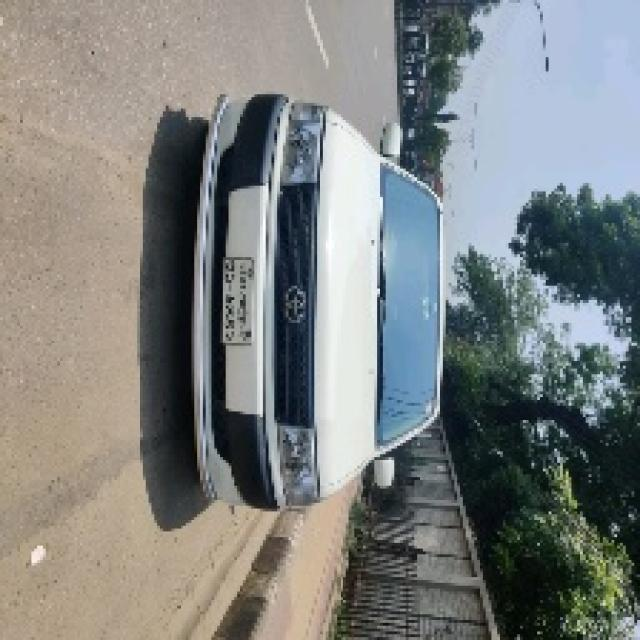car: (176, 89, 463, 532)
